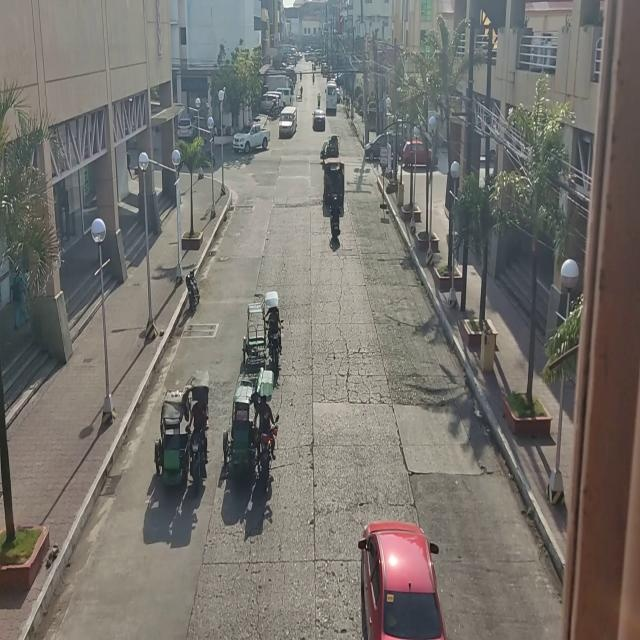Motorcycle: (329, 195, 342, 246), (316, 92, 322, 109)
